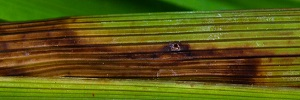RiceSheathBrownRot: (2, 7, 300, 96)
